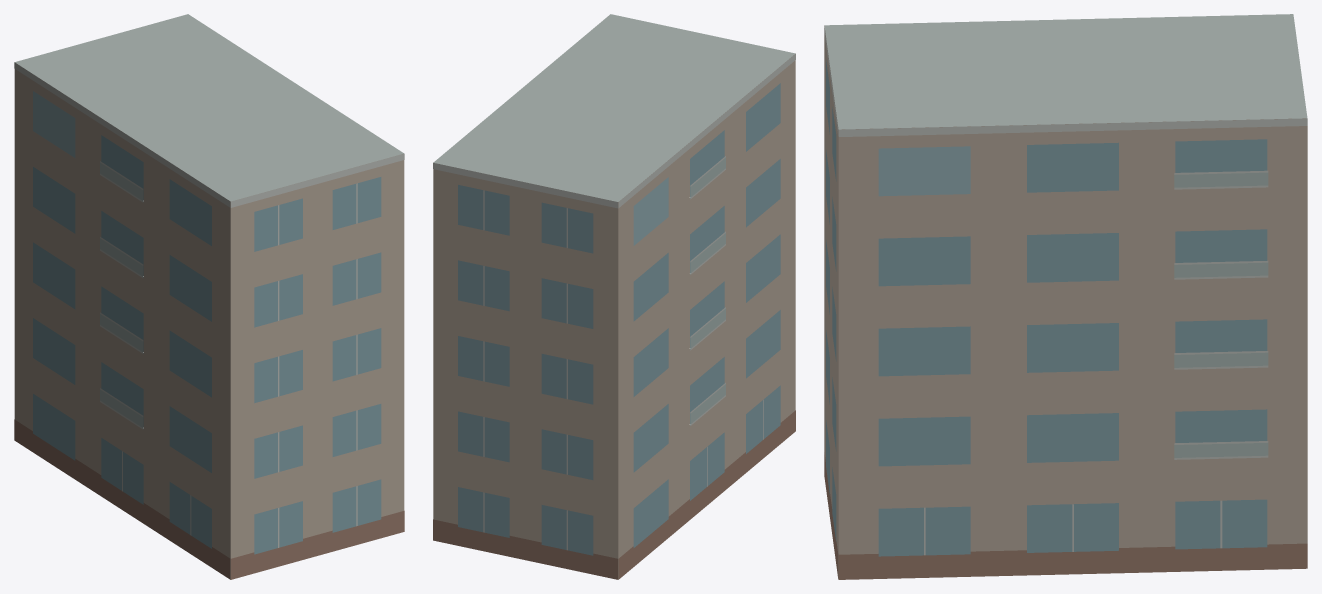
Rendered from survey-upis-32746328.glb.
3 views of the same model, side by side, from view 1: azimuth 30°, elevation 25°; view 2: azimuth 150°, elevation 25°; view 3: azimuth 270°, elevation 25° (orthographic). The views are drawn at different scales.
Visible parts, largest first — view 1: survey-upis-32746328.tmp; view 2: survey-upis-32746328.tmp; view 3: survey-upis-32746328.tmp.
Part boxes in pixels (x1,y1,x2,y2): survey-upis-32746328.tmp: (14,14,404,579); survey-upis-32746328.tmp: (433,14,795,579); survey-upis-32746328.tmp: (824,14,1307,579).
Bounding box in the file's own units: 7.93 × 14.4 × 14.01.
